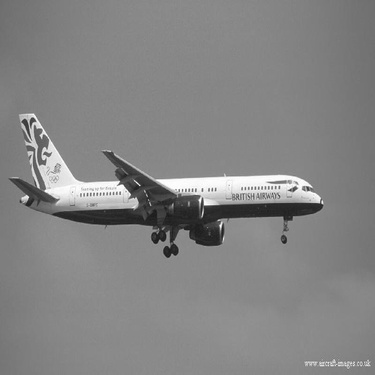airplane: (1, 95, 339, 262)
